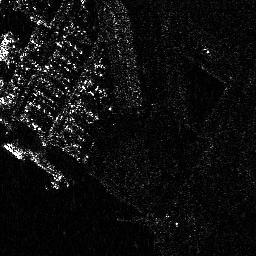ship: (1, 141, 25, 159)
